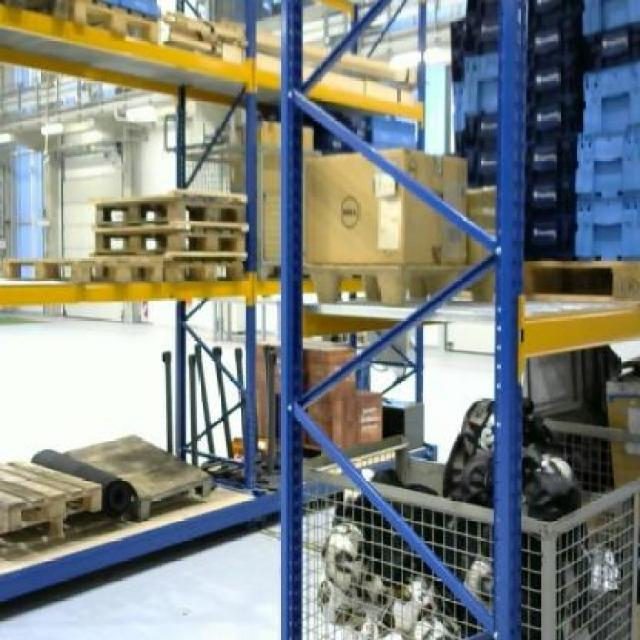box: (303, 146, 466, 262)
